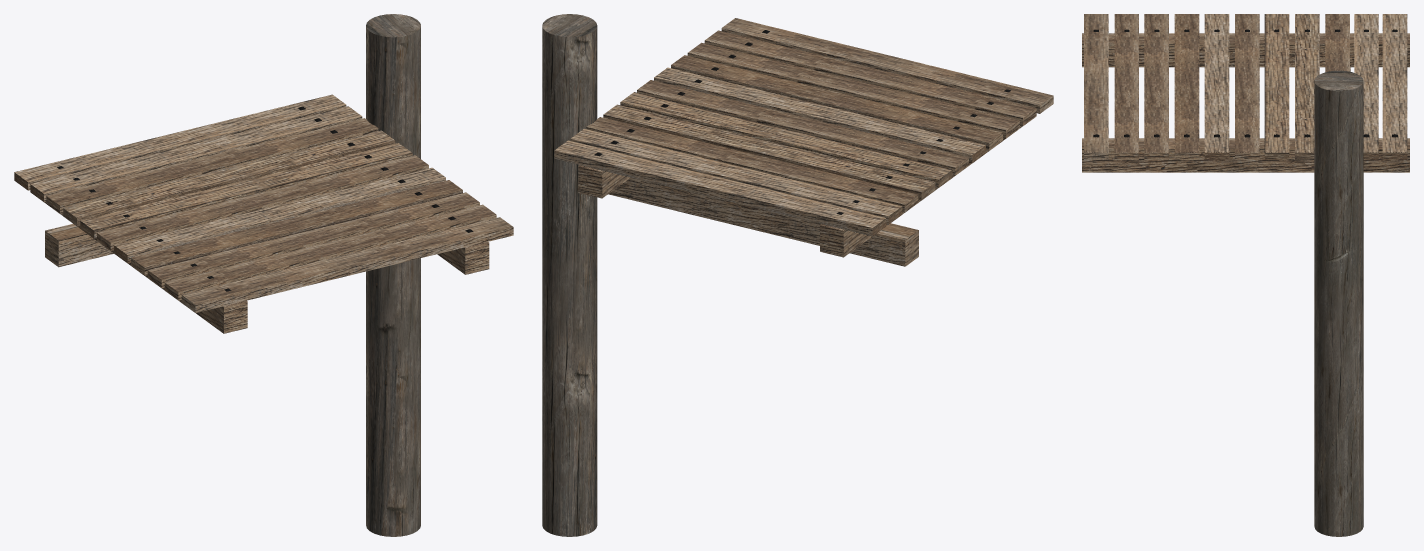
Rendered from Kit Plataforma Madera 4to A.fbx.
3 renders of one model, left to right at view 1: azimuth 30°, elevation 25°; view 2: azimuth 150°, elevation 25°; view 3: azimuth 270°, elevation 25°, orthographic. The views are drawn at different scales.
Parts seen in each view (by area): view 1: Plataforma 4x4, Columna 6x0.3, Viga 4x0.3; view 2: Plataforma 4x4, Columna 6x0.3, Viga 4x0.3; view 3: Plataforma 4x4, Columna 6x0.3.
Part boxes in pixels (<box>): Plataforma 4x4: <box>14,94,513,333</box>; Columna 6x0.3: <box>366,14,420,536</box>; Viga 4x0.3: <box>45,224,113,267</box>; Plataforma 4x4: <box>554,18,1053,257</box>; Columna 6x0.3: <box>542,14,597,536</box>; Viga 4x0.3: <box>608,177,918,266</box>; Plataforma 4x4: <box>1082,14,1409,172</box>; Columna 6x0.3: <box>1314,70,1363,536</box>.
Size of the model in its own units: 460 by 600 by 400.
4 materials, 2 textured.
